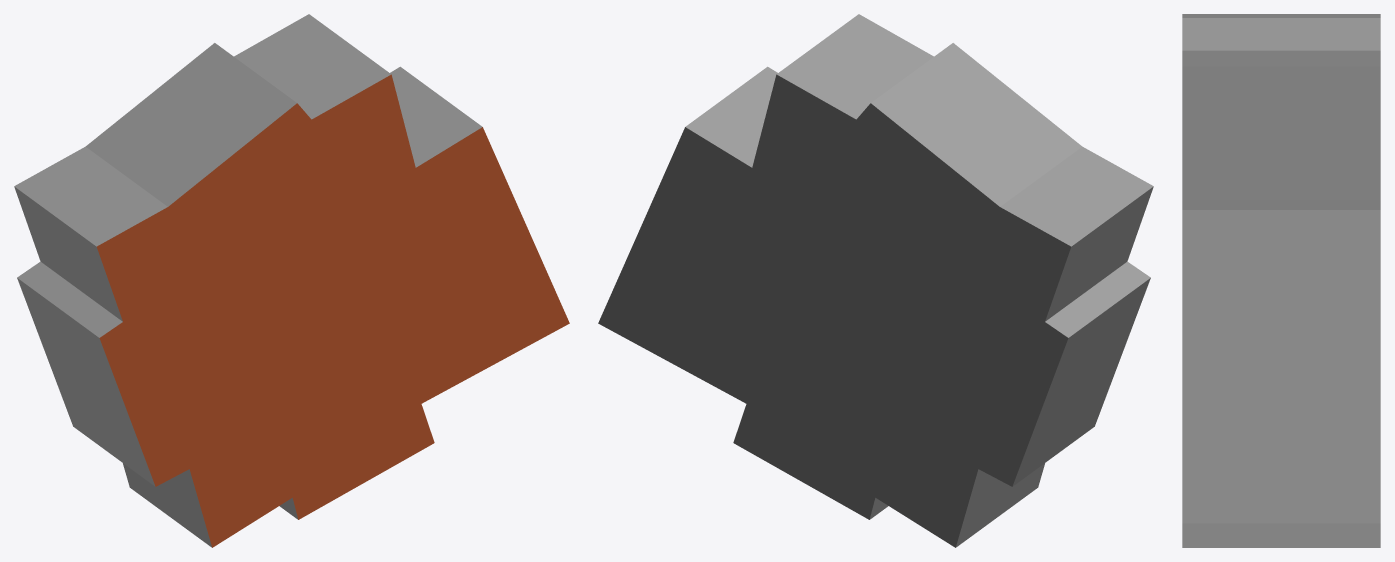
File: construction_3005_assumed_A_Casa_h6m.obj
3 renders of one model, left to right at view 1: azimuth 30°, elevation 25°; view 2: azimuth 150°, elevation 25°; view 3: azimuth 270°, elevation 25°, orthographic. The views are drawn at different scales.
Visible parts, largest first — view 1: construction_3005_assumed_A_Casa; view 2: construction_3005_assumed_A_Casa; view 3: construction_3005_assumed_A_Casa.
Boxes of the visible parts, x1=… form: construction_3005_assumed_A_Casa: x1=14, y1=14, x2=569, y2=547; construction_3005_assumed_A_Casa: x1=598, y1=14, x2=1153, y2=547; construction_3005_assumed_A_Casa: x1=1182, y1=14, x2=1380, y2=547.
Size of the model in its own units: 19.87 by 17.25 by 6.
